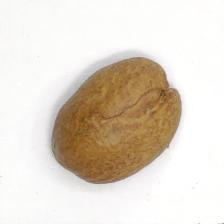NG: (104, 55, 178, 128)
